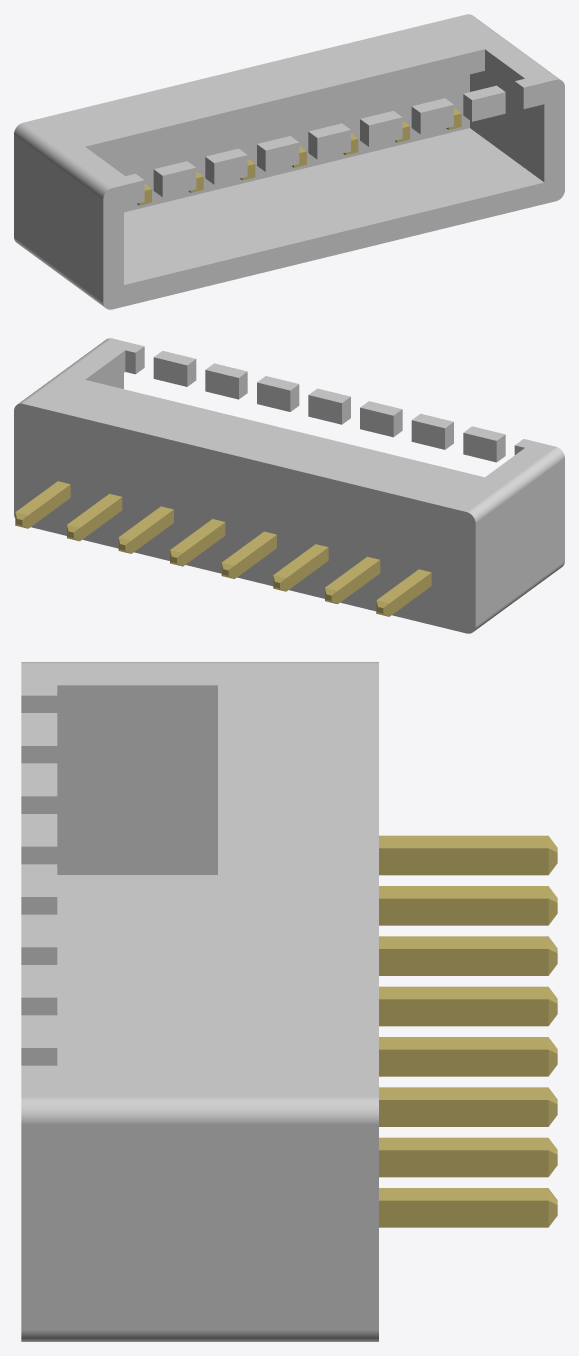
File: jst_ph_8pin.glb
3 views of the same model, one above another, from view 1: azimuth 30°, elevation 25°; view 2: azimuth 150°, elevation 25°; view 3: azimuth 270°, elevation 25° (orthographic). The views are drawn at different scales.
Parts seen in each view (by area): view 1: world; view 2: world; view 3: world.
Part boxes in pixels (x1,y1,x2,y2): world: (14, 14, 564, 309); world: (14, 338, 564, 633); world: (21, 662, 557, 1341).
Size of the model in its own units: 17.9 by 4.5 by 9.
